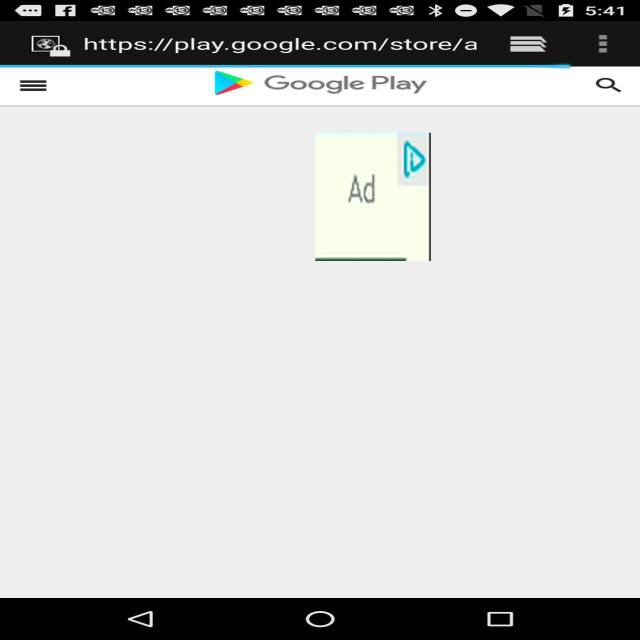sneaking: (315, 133, 431, 261)
